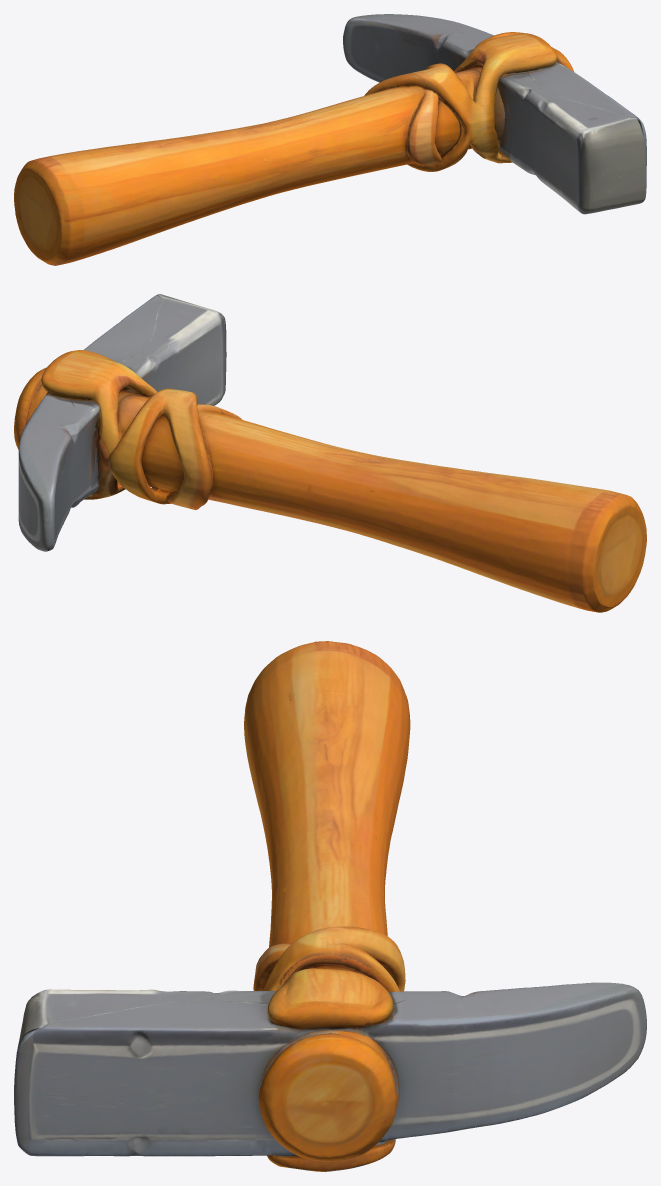
The model's file is pickaxe.glb.
3 renders of one model, top to bottom at view 1: azimuth 30°, elevation 25°; view 2: azimuth 150°, elevation 25°; view 3: azimuth 270°, elevation 25°, orthographic. The views are drawn at different scales.
Size of the model in its own units: 2 by 0.4111 by 1.36.
Materials: 1 (1 with a texture image).
